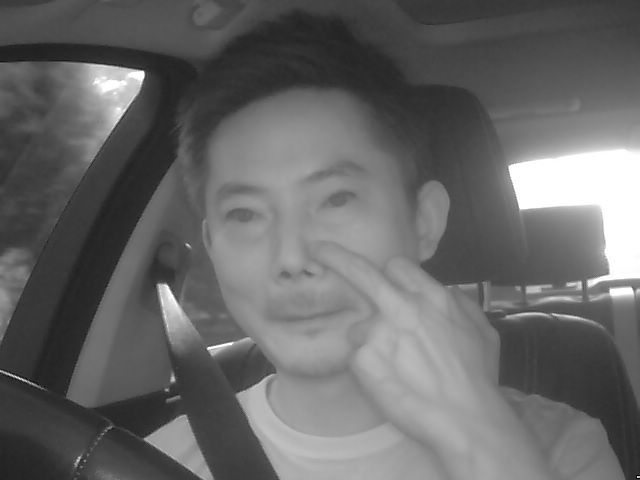hand: (308, 242, 503, 427)
